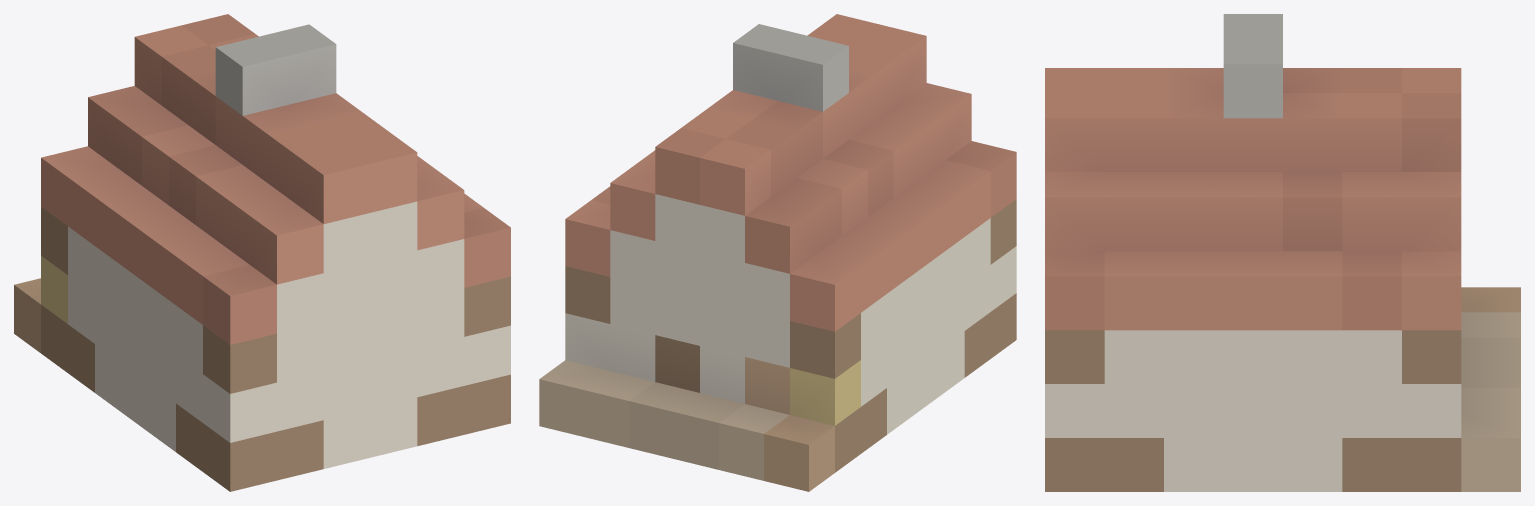
Rendered from pig_farm.lite.glb.
3 views of the same model, side by side, from view 1: azimuth 30°, elevation 25°; view 2: azimuth 150°, elevation 25°; view 3: azimuth 270°, elevation 25° (orthographic). The views are drawn at different scales.
Parts seen in each view (by area): view 1: pig_farm; view 2: pig_farm; view 3: pig_farm.
Part boxes in pixels (box(x1,y1,x2,y2)): pig_farm: box(14, 14, 510, 491); pig_farm: box(539, 14, 1016, 491); pig_farm: box(1045, 14, 1520, 491).
Bounding box in the file's own units: 3 × 3.5 × 4.
